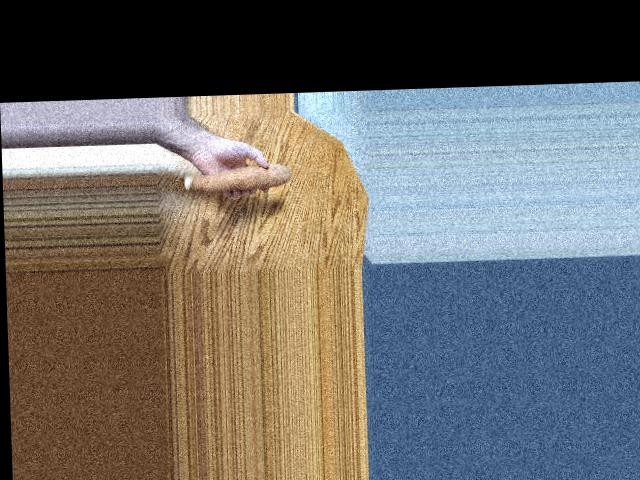sweet_potato: (192, 168, 292, 199)
